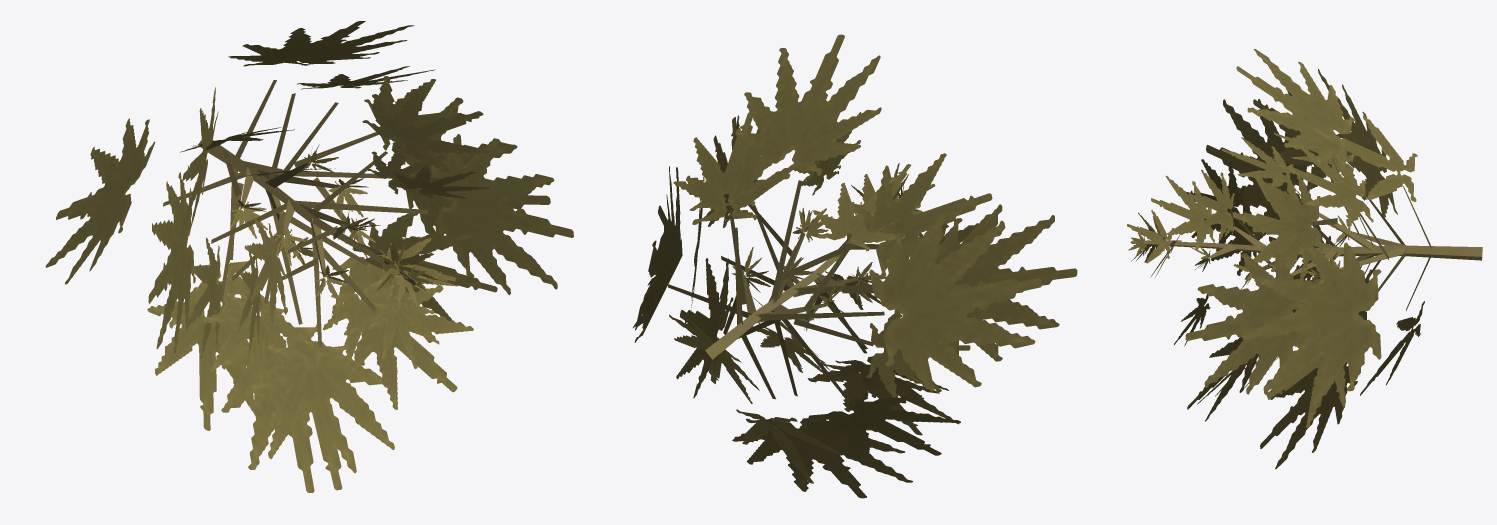
Rendered from p_landrace_vegetative_c2_cards.obj.
3 views of the same model, side by side, from view 1: azimuth 30°, elevation 25°; view 2: azimuth 150°, elevation 25°; view 3: azimuth 270°, elevation 25° (orthographic). The views are drawn at different scales.
Size of the model in its own units: 1.32 by 1.28 by 0.955.
Materials: 1 (1 with a texture image).
